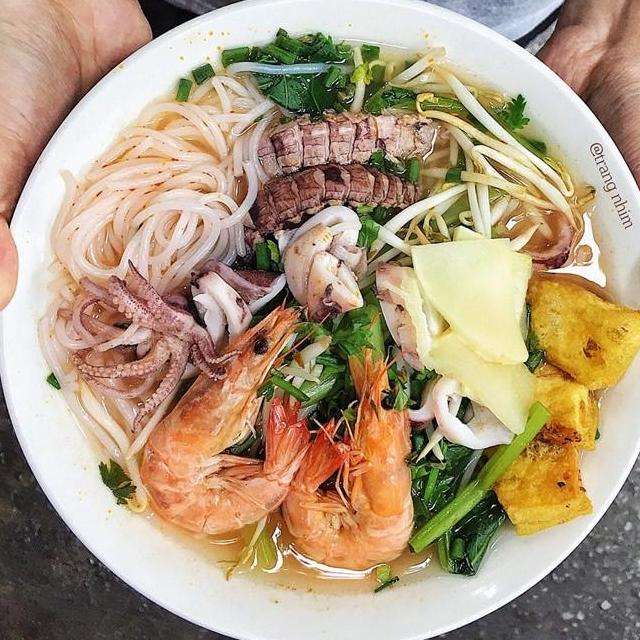bun: (46, 54, 338, 295), (33, 287, 138, 469)
bun hai san: (7, 37, 640, 637)
dau hu: (521, 268, 640, 399), (476, 428, 600, 540), (508, 352, 604, 454)
muc: (51, 255, 248, 438), (268, 201, 376, 335), (186, 255, 292, 352), (424, 372, 522, 451)
tom: (132, 297, 338, 541), (273, 339, 422, 577)
tom tit: (230, 157, 432, 267), (246, 103, 450, 191)
